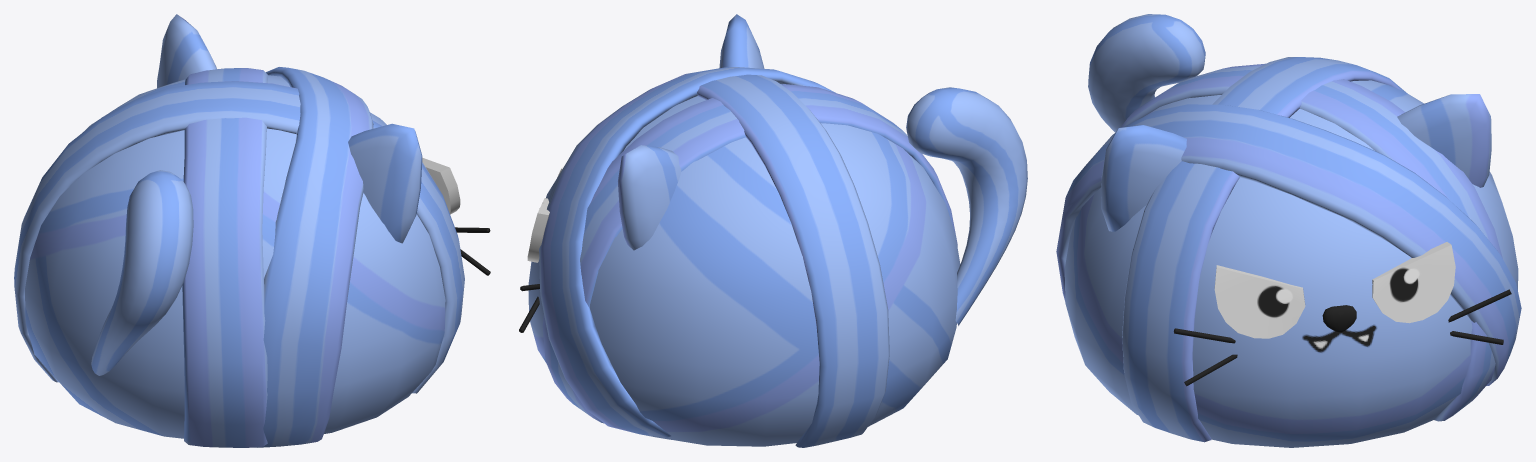
The model's file is YarnEnemy.glb.
3 renders of one model, left to right at view 1: azimuth 30°, elevation 25°; view 2: azimuth 150°, elevation 25°; view 3: azimuth 270°, elevation 25°, orthographic. The views are drawn at different scales.
Parts seen in each view (by area): view 1: YarnBigEnemy; view 2: YarnBigEnemy; view 3: YarnBigEnemy.
Boxes of the visible parts, x1=… form: YarnBigEnemy: x1=14, y1=14, x2=490, y2=447; YarnBigEnemy: x1=519, y1=14, x2=1027, y2=447; YarnBigEnemy: x1=1056, y1=14, x2=1521, y2=447.
Size of the model in its own units: 1.26 by 0.8445 by 1.23.
Materials: 1 (1 with a texture image).
